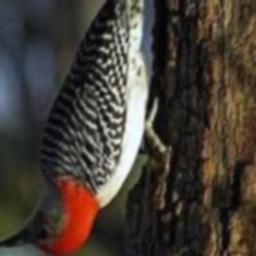Woodpecker: (0, 0, 164, 256)
